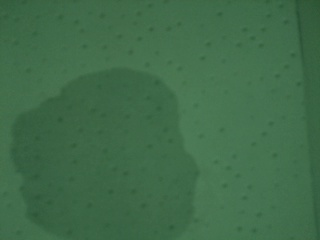Water_detected: (31, 87, 172, 227)
